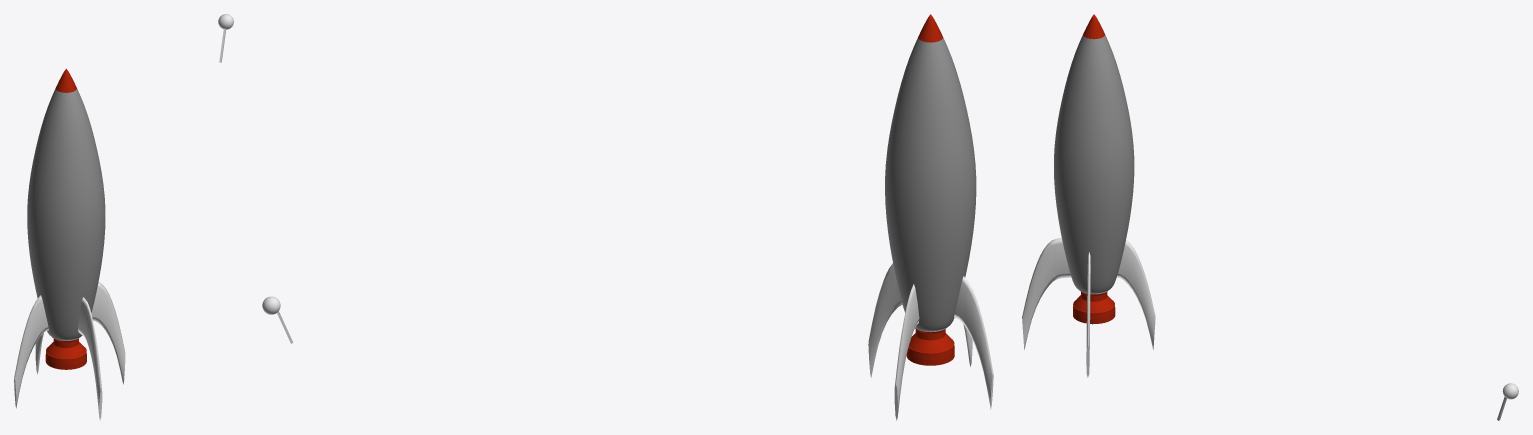
The model's file is Assignment_2.FBX.
3 views of the same model, side by side, from view 1: azimuth 30°, elevation 25°; view 2: azimuth 150°, elevation 25°; view 3: azimuth 270°, elevation 25° (orthographic). The views are drawn at different scales.
Visible parts, largest first — view 1: Cylinder001, Box007, Box005, Box006; view 2: Cylinder001, Box007, Box005, Box008; view 3: Cylinder001, Box006, Box008, Box005.
Boxes of the visible parts, x1,y1,x2,y2 form: Cylinder001: (27, 68, 105, 369); Box007: (14, 295, 48, 408); Box005: (91, 282, 125, 384); Box006: (78, 297, 102, 420); Cylinder001: (885, 14, 976, 365); Box007: (954, 276, 993, 409); Box005: (868, 263, 902, 377); Box008: (894, 284, 919, 420); Cylinder001: (1054, 14, 1134, 323); Box006: (1022, 238, 1071, 349); Box008: (1117, 240, 1155, 349); Box005: (1086, 252, 1090, 377).
Size of the model in its own units: 509 by 377 by 504.
